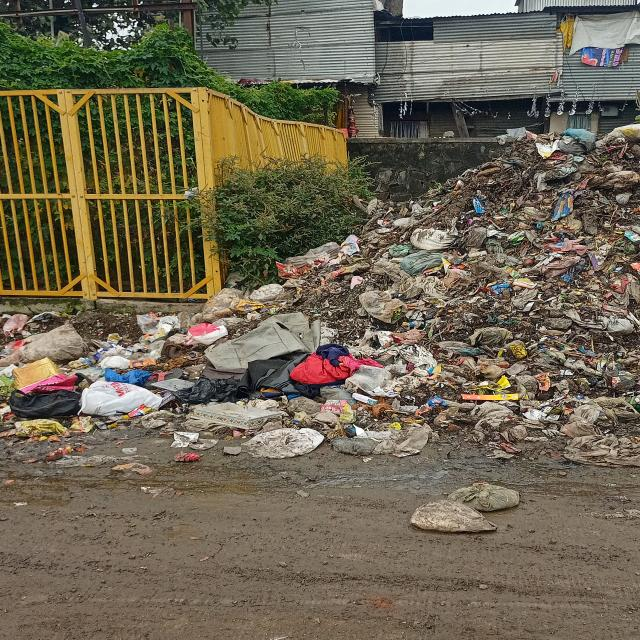garbage: (281, 123, 640, 448), (1, 300, 470, 475)
